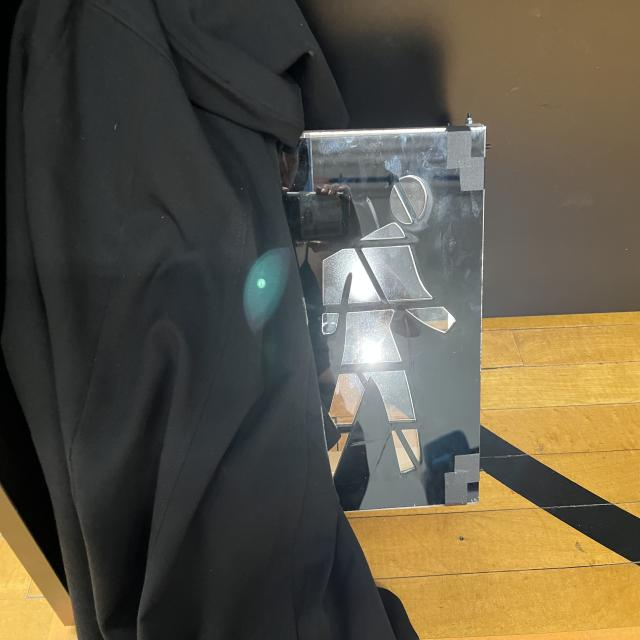go: (299, 129, 483, 508)
